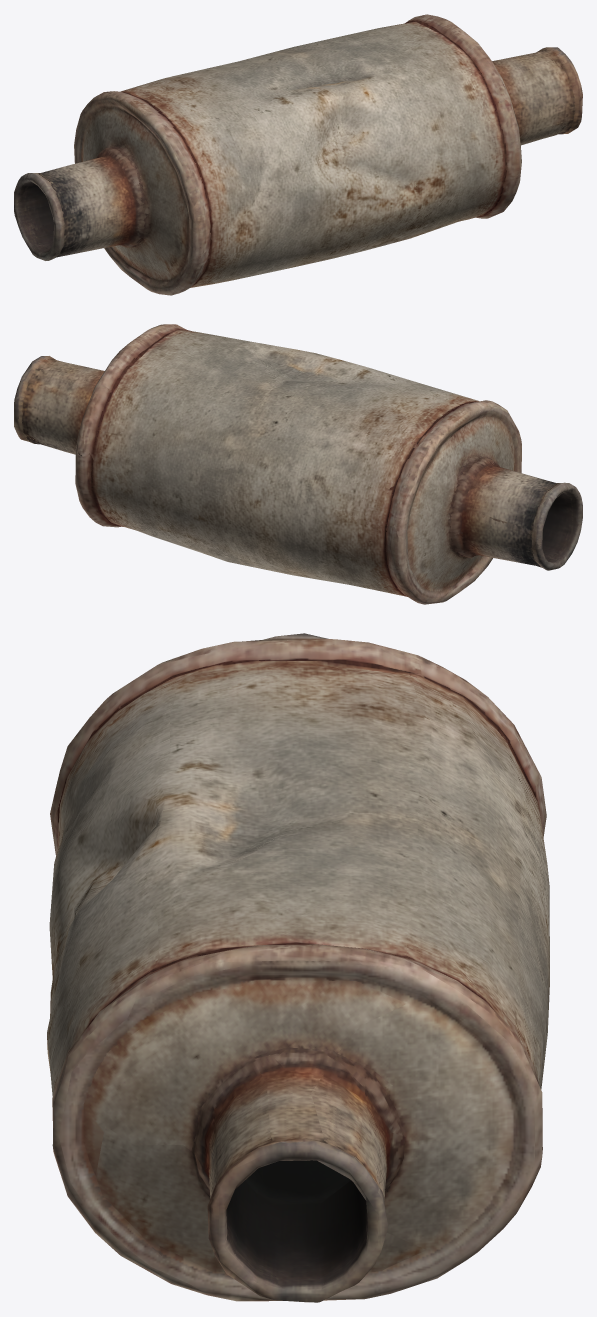
Rendered from old_exhaust_muffler.glb.
3 renders of one model, top to bottom at view 1: azimuth 30°, elevation 25°; view 2: azimuth 150°, elevation 25°; view 3: azimuth 270°, elevation 25°, orthographic. The views are drawn at different scales.
Bounding box in the file's own units: 0.55 × 0.178 × 0.227.
1 material, 1 textured.
